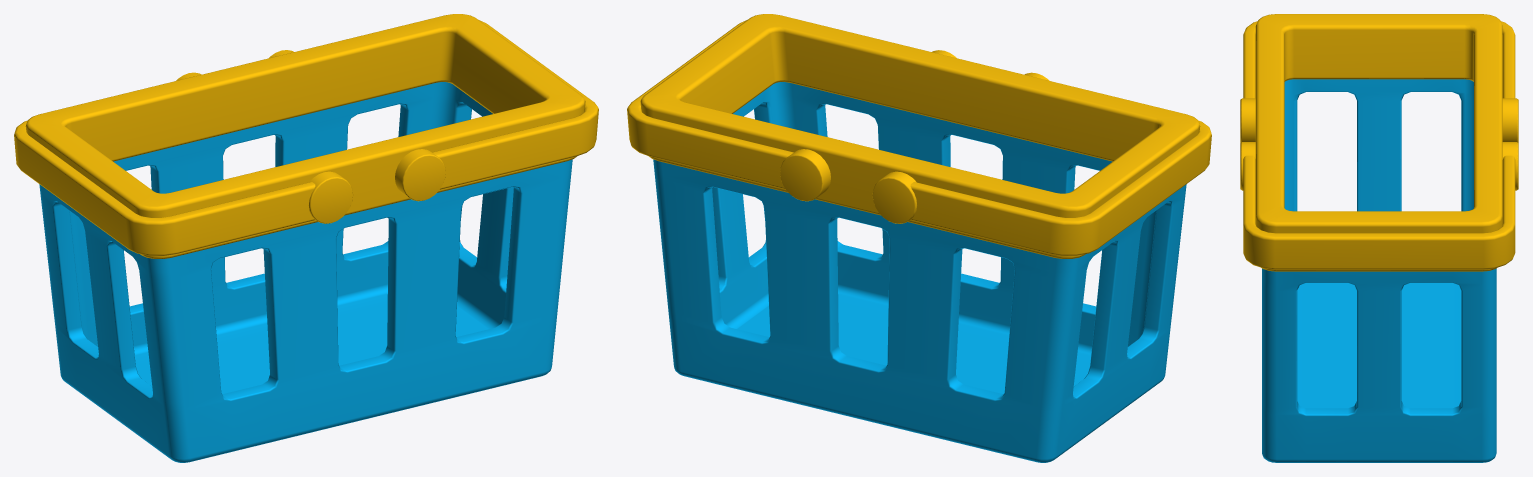
File: Public_10_Food_Basket_2.glb
3 renders of one model, left to right at view 1: azimuth 30°, elevation 25°; view 2: azimuth 150°, elevation 25°; view 3: azimuth 270°, elevation 25°, orthographic. The views are drawn at different scales.
Parts seen in each view (by area): view 1: Public_10_Food_Basket_2; view 2: Public_10_Food_Basket_2; view 3: Public_10_Food_Basket_2.
Part boxes in pixels (x1,y1,x2,y2): Public_10_Food_Basket_2: (14,14,598,462); Public_10_Food_Basket_2: (627,14,1211,462); Public_10_Food_Basket_2: (1240,14,1518,462).
Size of the model in its own units: 3.15 by 1.71 by 1.68.
1 material, 1 textured.
